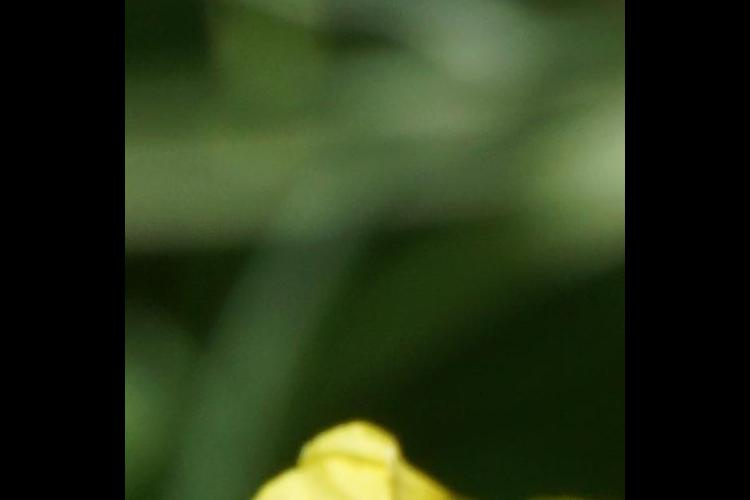yellow: (208, 432, 606, 500)
